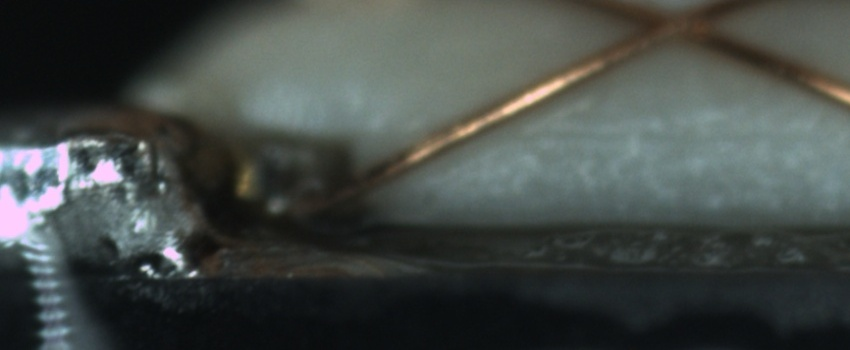CL: (611, 2, 725, 47)
DL: (513, 101, 850, 164)
